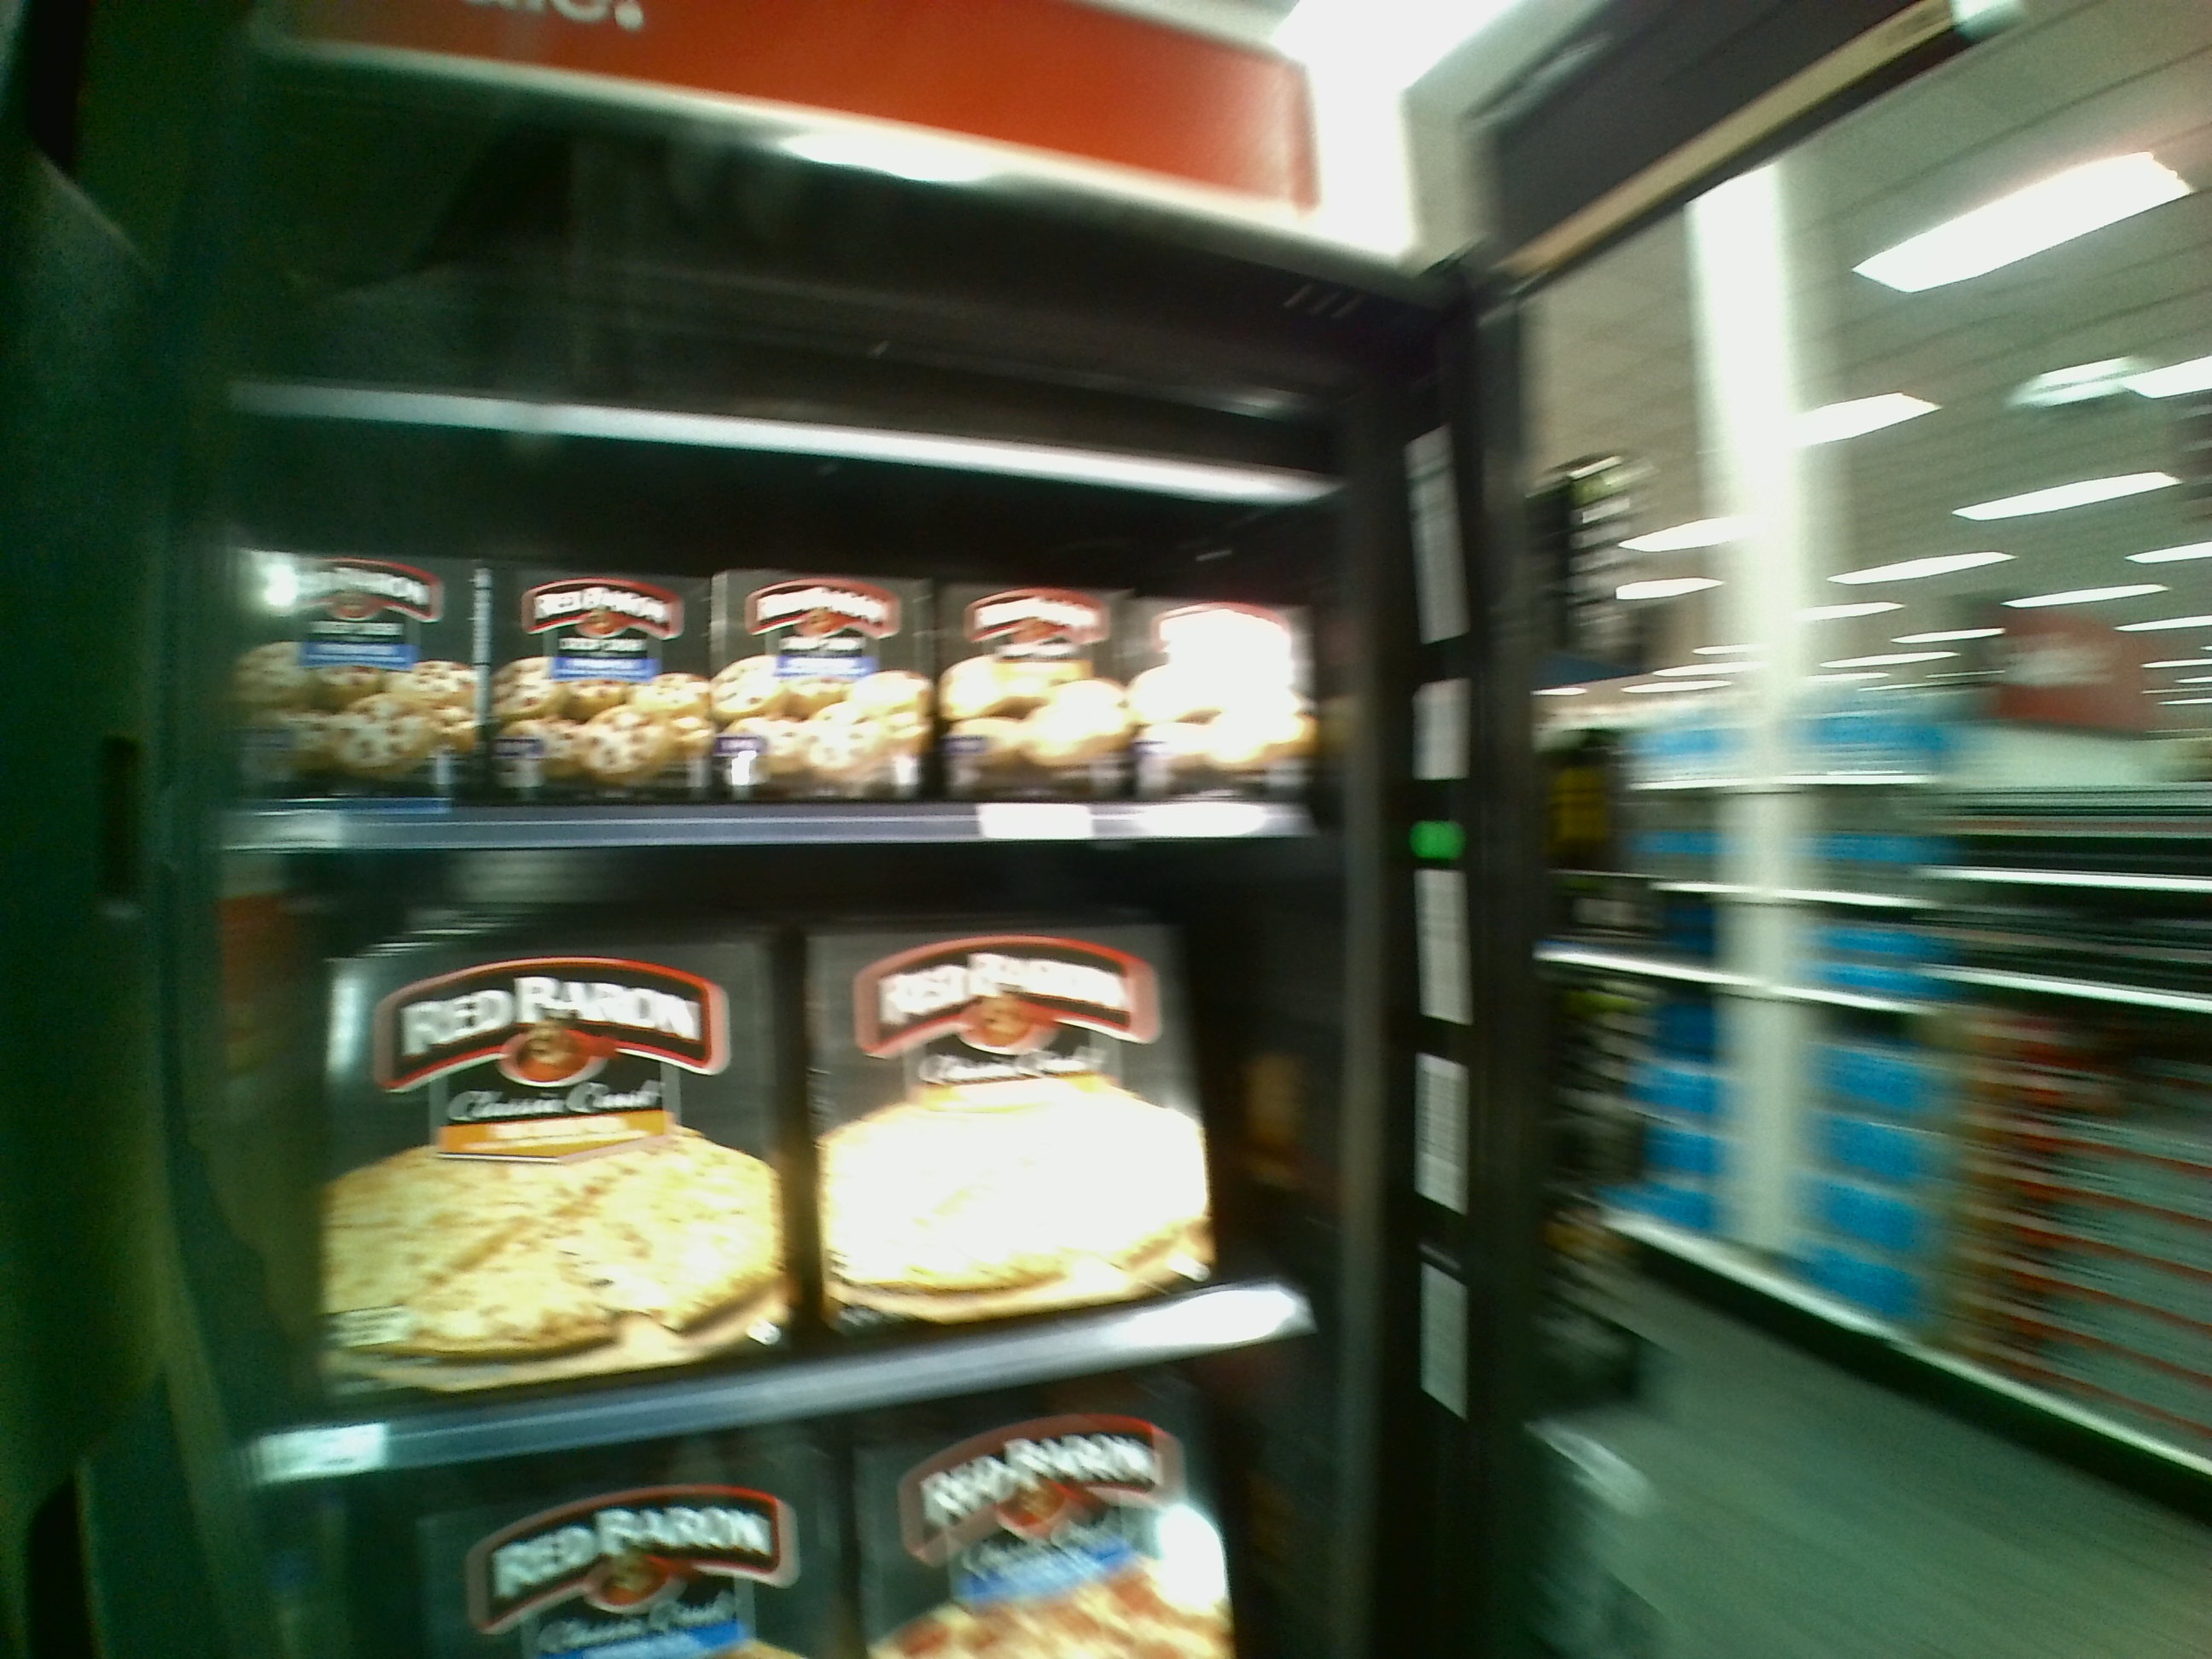shelf: (237, 852, 1341, 1441), (214, 474, 1320, 842)
